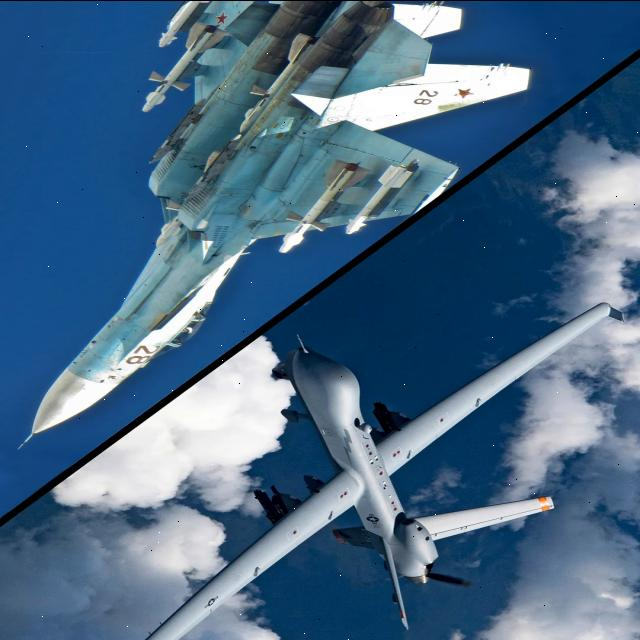MQ9: (152, 259, 640, 640)
